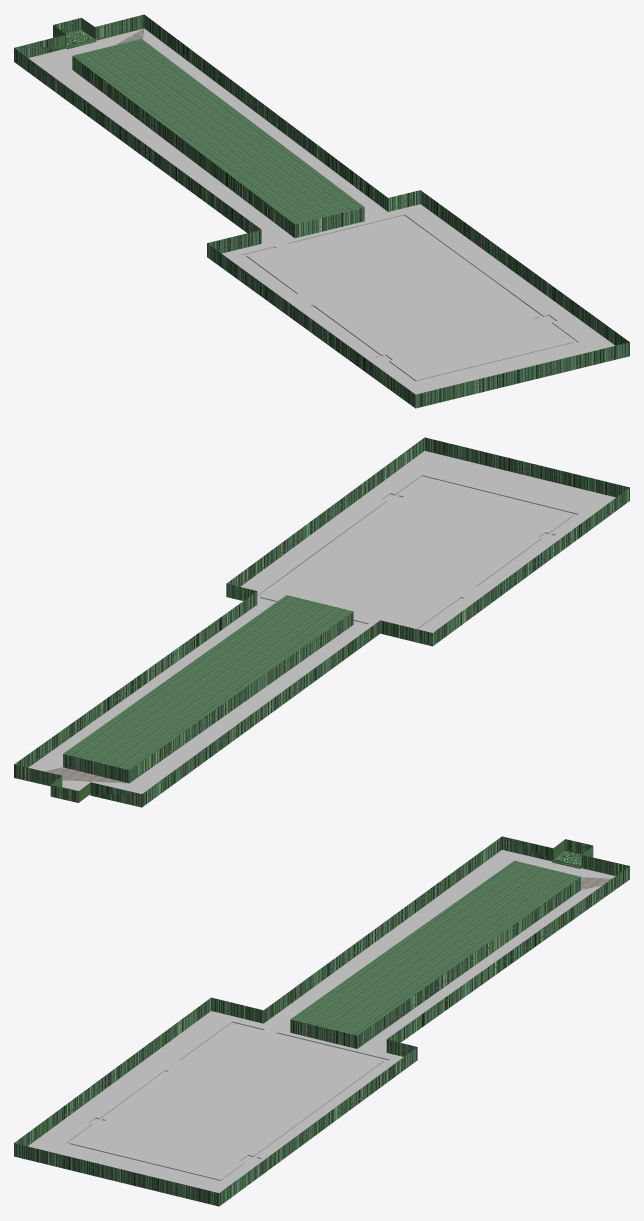
Rendered from ColiderKaf.FBX.
3 renders of one model, top to bottom at view 1: azimuth 30°, elevation 25°; view 2: azimuth 150°, elevation 25°; view 3: azimuth 330°, elevation 25°, orthographic. The views are drawn at different scales.
Visible parts, largest first — view 1: zamin; view 2: zamin; view 3: zamin.
Boxes of the visible parts, bbox=[...] form: zamin: bbox=[14, 14, 629, 408]; zamin: bbox=[14, 437, 629, 807]; zamin: bbox=[14, 836, 629, 1206].
Size of the model in its own units: 127 by 8.51 by 477.
